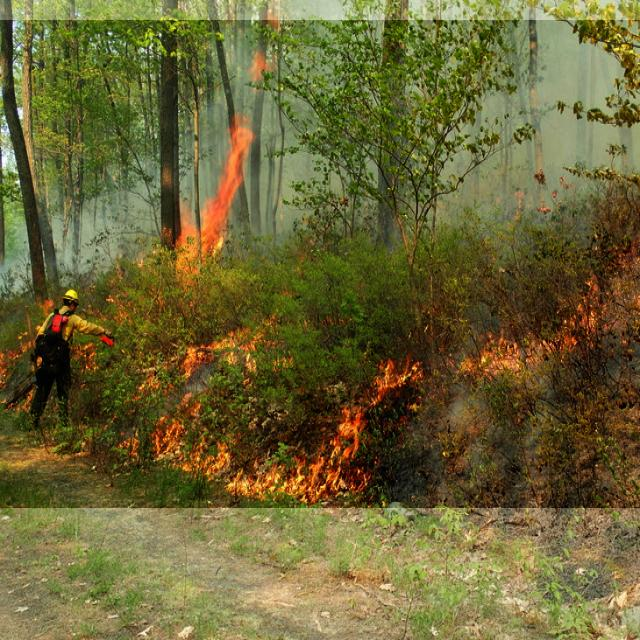Fire: (0, 20, 640, 508)
